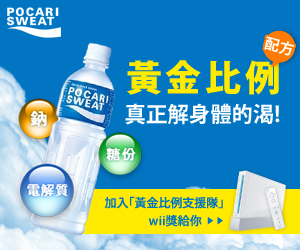POCARI SWEAT: (30, 40, 116, 234)
